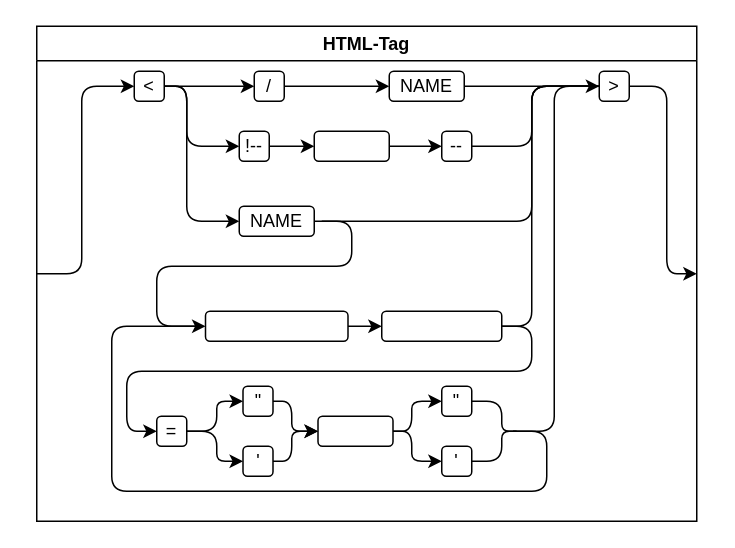
Some shapes in this 735 by 548 pixel diagram are drawn without their labels. The box of each missing label's shape, as (x1, y1, x2, y2) in pixels:
DATA: (316, 415, 393, 446)
DATA_NAME: (380, 310, 502, 341)
TEXT: (313, 130, 389, 161)
WHITE_SPACE: (204, 310, 348, 341)
